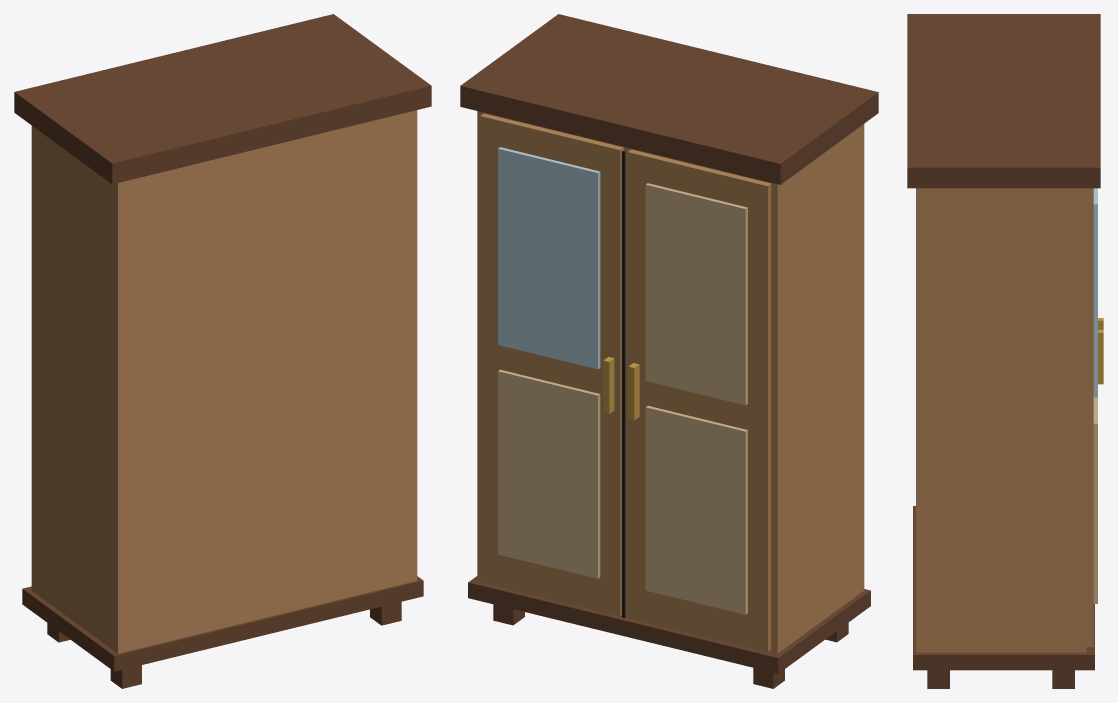
File: wardrobe.glb
3 views of the same model, side by side, from view 1: azimuth 30°, elevation 25°; view 2: azimuth 150°, elevation 25°; view 3: azimuth 270°, elevation 25° (orthographic).
Visible parts, largest first — view 1: Body; view 2: Body; view 3: Body.
Part boxes in pixels (<box>): Body: <box>14,14,431,688</box>; Body: <box>460,14,878,688</box>; Body: <box>907,14,1103,688</box>.
Size of the model in its own units: 1.28 by 2.06 by 0.69.
